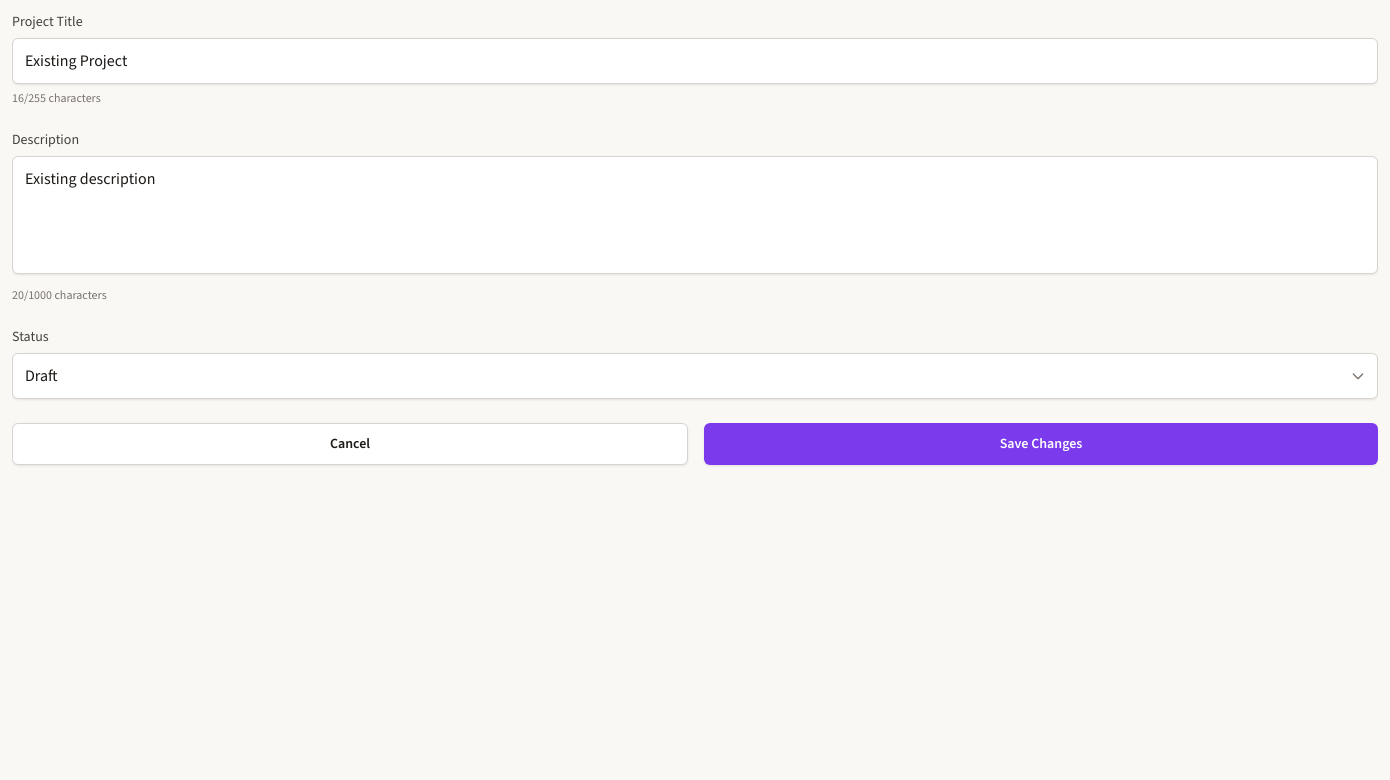
Test: EditProjectForm › Validation › should show error when title is empty
Clear the field labelled "Project Title" at (695, 61), box top-left (12, 38), bottom-right (1378, 84)
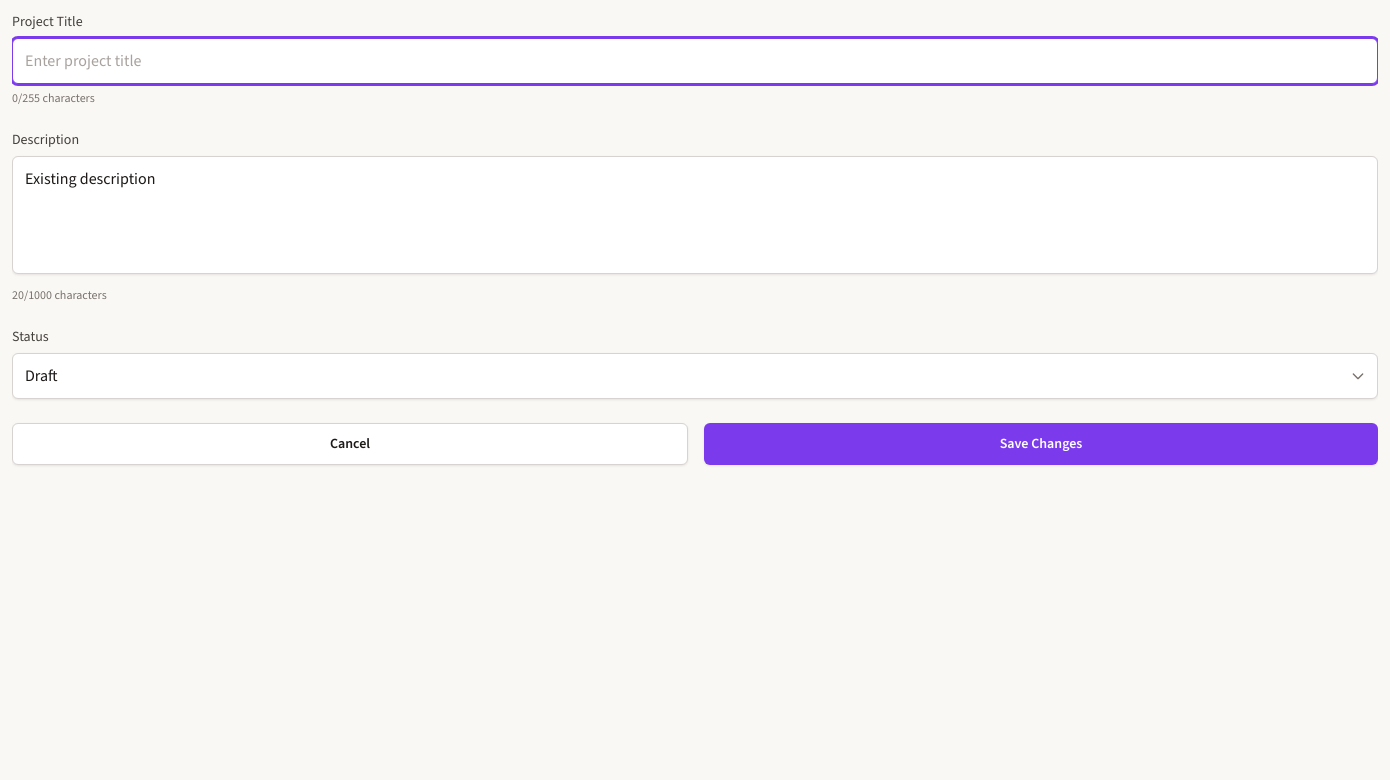
Click the button "Save Changes" at (1041, 444), box top-left (704, 423), bottom-right (1378, 465)
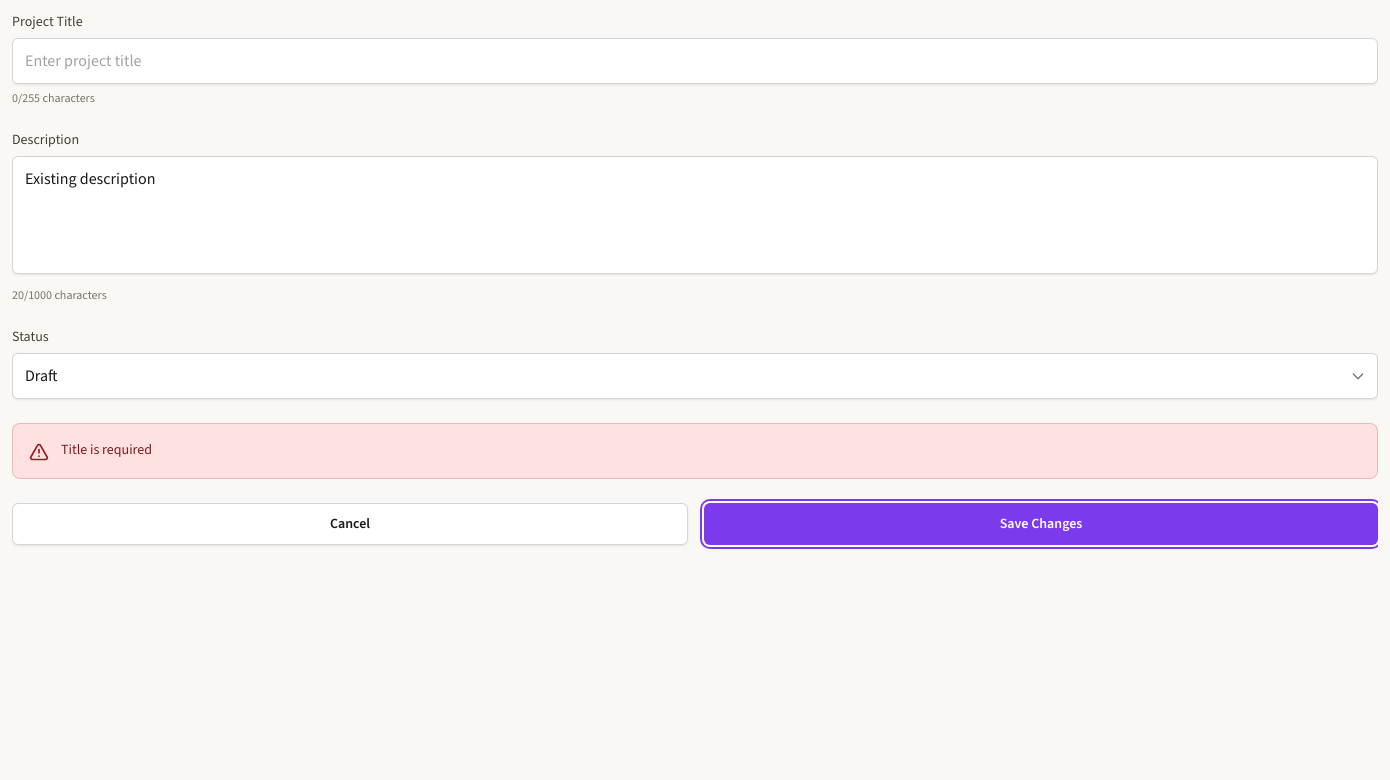
Expected: the message reads "Title is required", top-left (61, 440), bottom-right (152, 459)
